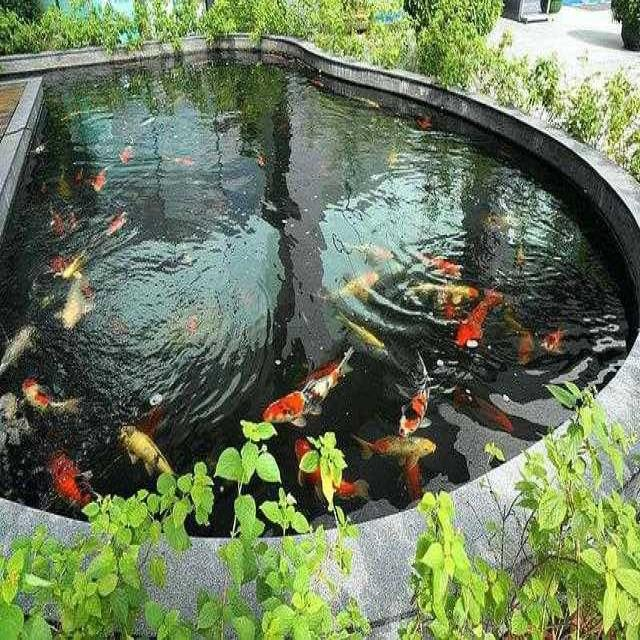Ponds: (1, 33, 640, 640)
